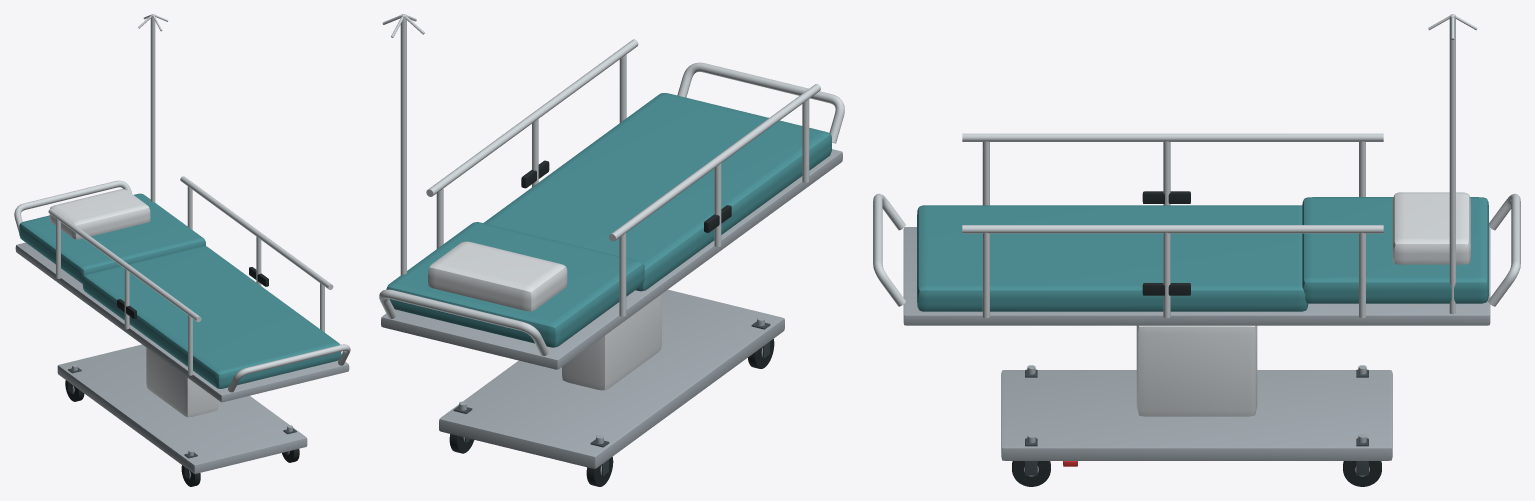
File: patient_stretcher.fbx
3 renders of one model, left to right at view 1: azimuth 30°, elevation 25°; view 2: azimuth 150°, elevation 25°; view 3: azimuth 270°, elevation 25°, orthographic. The views are drawn at different scales.
Visible parts, largest first — view 1: EQ_patient_stretcher_M_VinylTeal, EQ_patient_stretcher_M_SteelBrushed, EQ_patient_stretcher_M_Chrome, EQ_patient_stretcher_M_PlasticWhite, EQ_patient_stretcher_M_RubberBlack; view 2: EQ_patient_stretcher_M_VinylTeal, EQ_patient_stretcher_M_SteelBrushed, EQ_patient_stretcher_M_Chrome, EQ_patient_stretcher_M_PlasticWhite, EQ_patient_stretcher_M_RubberBlack; view 3: EQ_patient_stretcher_M_VinylTeal, EQ_patient_stretcher_M_SteelBrushed, EQ_patient_stretcher_M_PlasticWhite, EQ_patient_stretcher_M_Chrome, EQ_patient_stretcher_M_RubberBlack, EQ_patient_stretcher_M_PlasticGrey.
Part boxes in pixels (x1,y1,x2,y2): EQ_patient_stretcher_M_VinylTeal: (19,193,341,388); EQ_patient_stretcher_M_SteelBrushed: (15,242,349,478); EQ_patient_stretcher_M_Chrome: (14,14,350,392); EQ_patient_stretcher_M_PlasticWhite: (49,189,218,417); EQ_patient_stretcher_M_RubberBlack: (65,267,299,486); EQ_patient_stretcher_M_VinylTeal: (386,93,831,347); EQ_patient_stretcher_M_SteelBrushed: (381,149,842,474); EQ_patient_stretcher_M_Chrome: (379,14,844,355); EQ_patient_stretcher_M_PlasticWhite: (428,241,661,390); EQ_patient_stretcher_M_RubberBlack: (449,160,774,486); EQ_patient_stretcher_M_VinylTeal: (917,197,1488,311); EQ_patient_stretcher_M_SteelBrushed: (903,227,1490,476); EQ_patient_stretcher_M_PlasticWhite: (1136,192,1470,416); EQ_patient_stretcher_M_Chrome: (873,14,1520,317); EQ_patient_stretcher_M_RubberBlack: (1012,191,1381,486); EQ_patient_stretcher_M_PlasticGrey: (1025,369,1368,475).
Bounding box in the file's own units: 0.7867 × 1.75 × 2.15.
